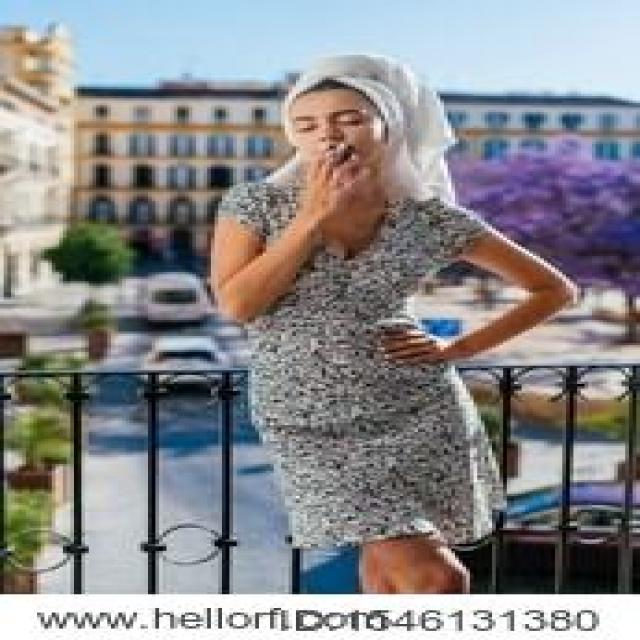Сигарета: (324, 148, 338, 164)
Тело: (217, 54, 576, 591)
